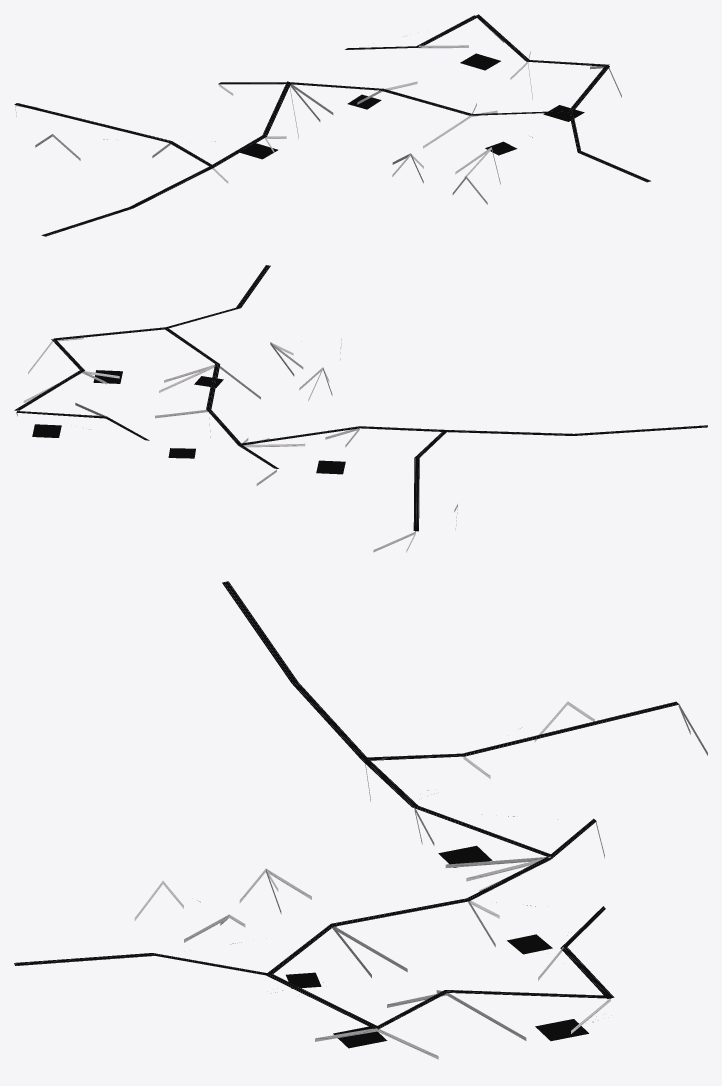
Rendered from cewirestown05.obj.
3 renders of one model, top to bottom at view 1: azimuth 30°, elevation 25°; view 2: azimuth 150°, elevation 25°; view 3: azimuth 270°, elevation 25°, orthographic. The views are drawn at different scales.
Parts seen in each view (by area): view 1: CEwirestown05; view 2: CEwirestown05; view 3: CEwirestown05.
Part boxes in pixels (x1,y1,x2,y2): CEwirestown05: (14, 14, 650, 236); CEwirestown05: (14, 265, 707, 552); CEwirestown05: (14, 581, 707, 1059).
Bounding box in the file's own units: 259 × 20.69 × 180.
